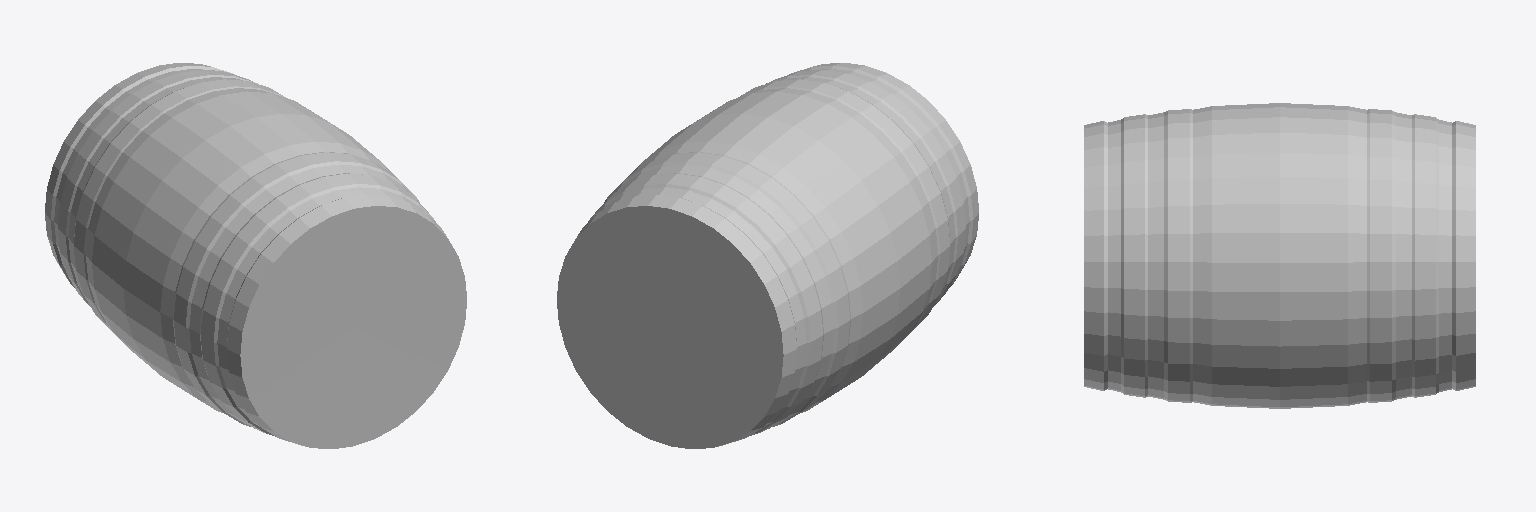
Rendered from barrel.obj.
The picture shows the model from 3 angles: view 1: azimuth 30°, elevation 25°; view 2: azimuth 150°, elevation 25°; view 3: azimuth 270°, elevation 25°; orthographic projection.
Parts seen in each view (by area): view 1: Mesh_Mesh_Cylinder.001; view 2: Mesh_Mesh_Cylinder.001; view 3: Mesh_Mesh_Cylinder.001.
Part boxes in pixels (bbox=[...]): Mesh_Mesh_Cylinder.001: bbox=[45, 63, 466, 448]; Mesh_Mesh_Cylinder.001: bbox=[557, 63, 978, 448]; Mesh_Mesh_Cylinder.001: bbox=[1084, 103, 1475, 408].
Size of the model in its own units: 9.44 by 9.44 by 12.06.